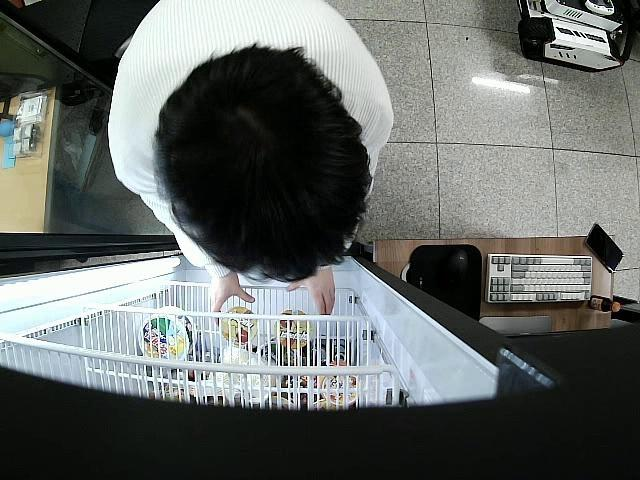04_chapagetti_S: (220, 308, 258, 348)
